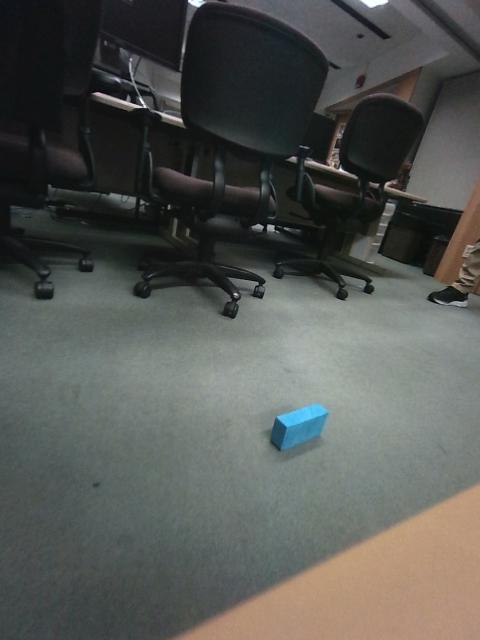block: (326, 292, 360, 325)
